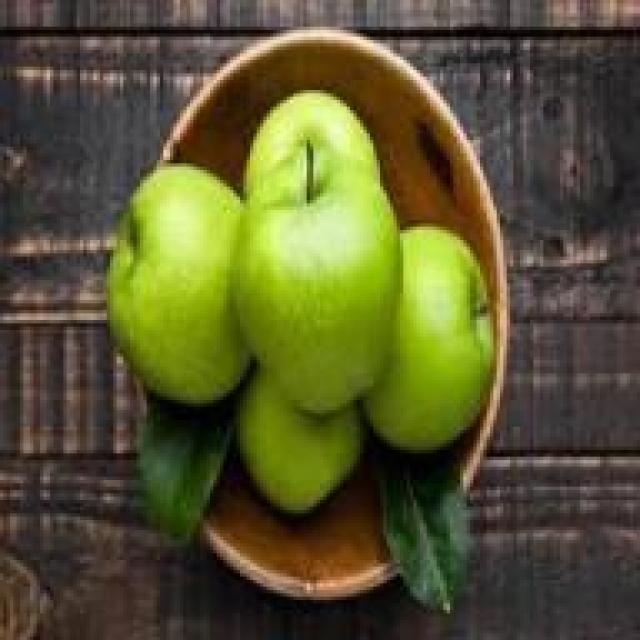apple: (240, 156, 400, 406), (360, 220, 497, 440), (113, 167, 247, 383), (227, 343, 363, 500), (236, 87, 386, 220)
